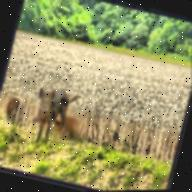boar: (27, 73, 88, 144)
